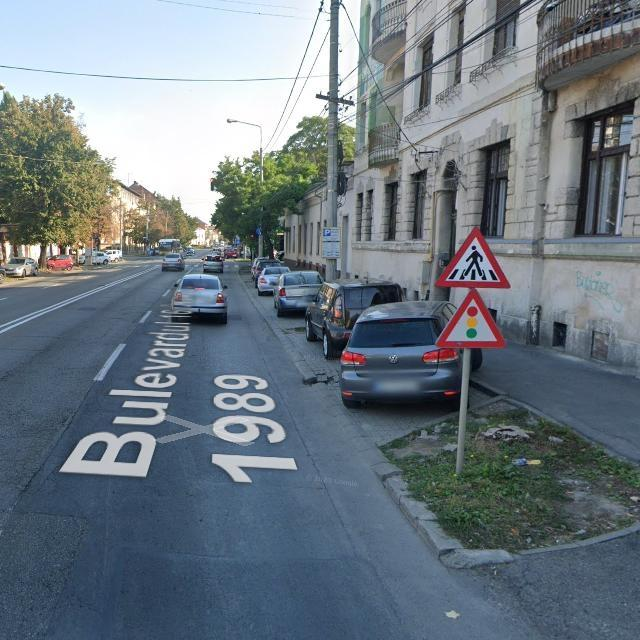warn_crosswalk: (435, 226, 512, 290)
